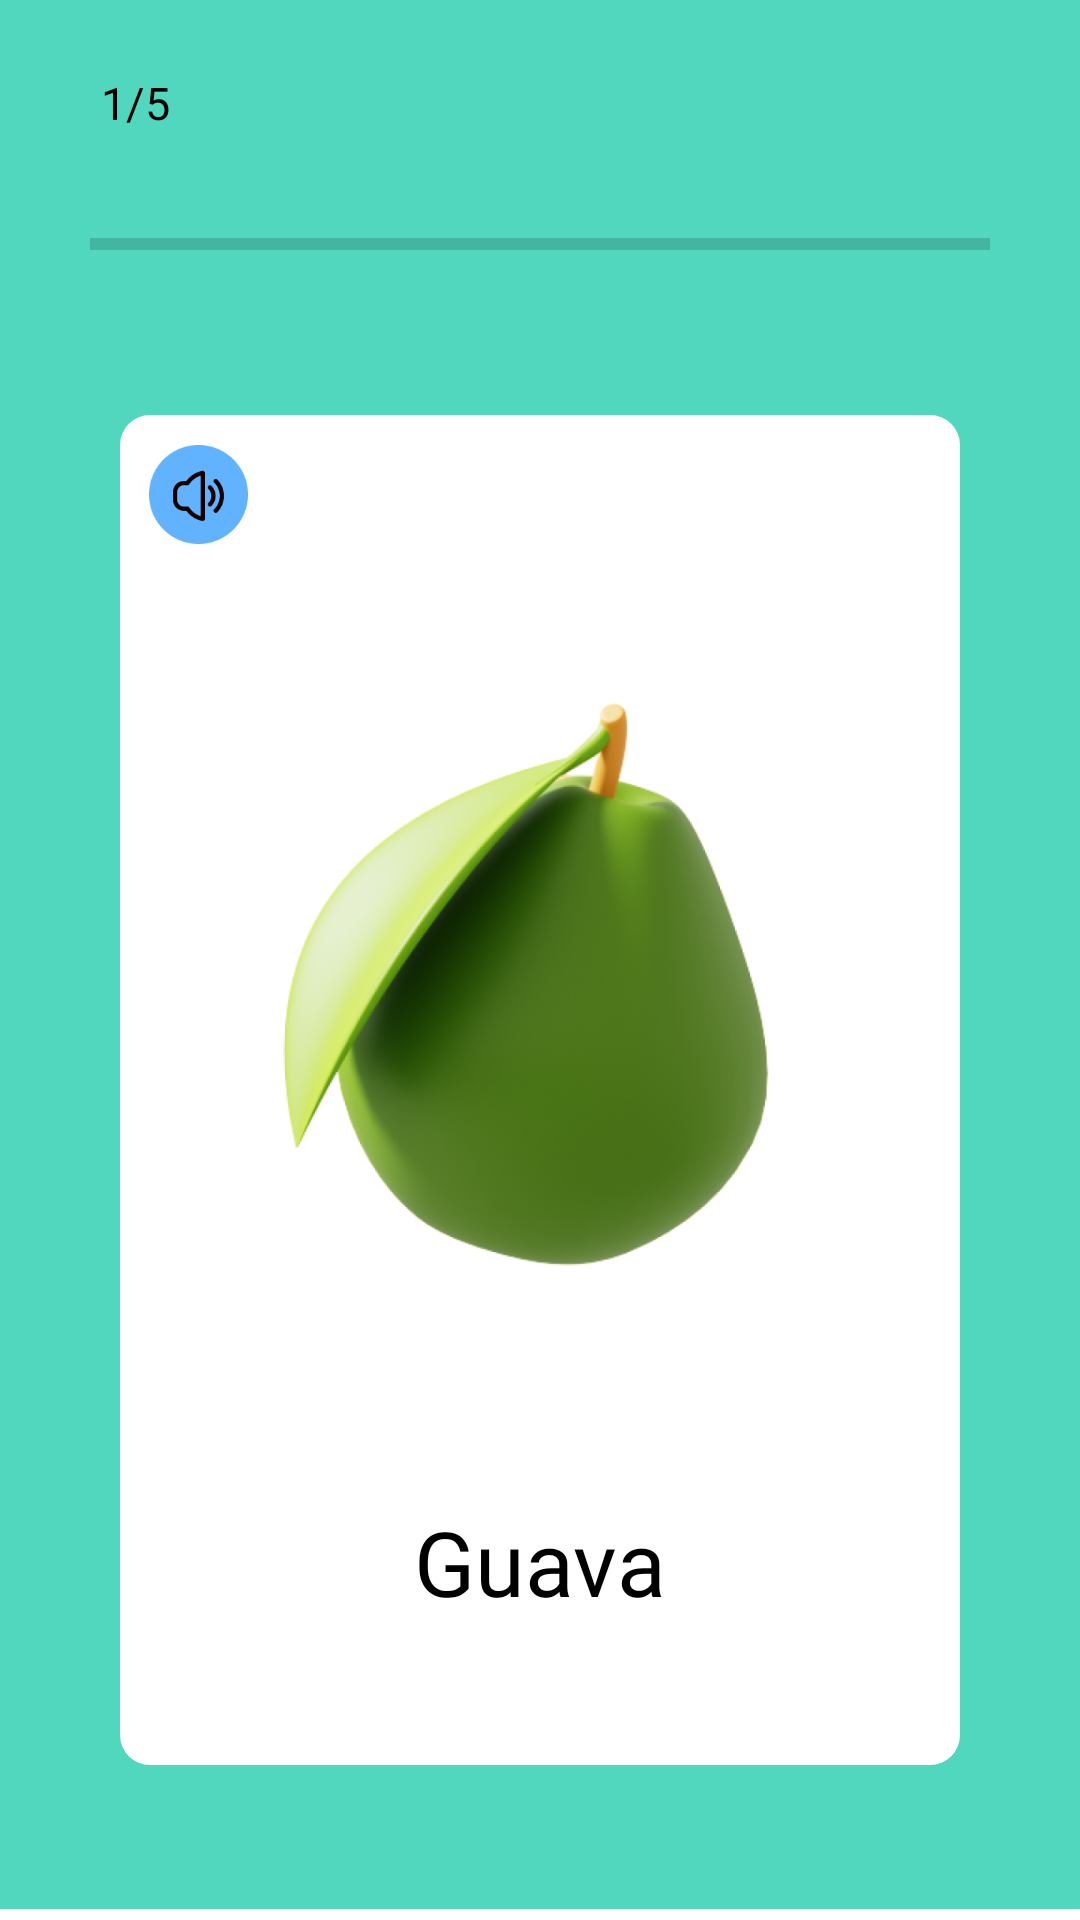

Screen size 1080 x 1920. Icon name, then its box in pixels as (x1, y1, x2, y2):
vocab sound: (149, 445, 248, 544)
